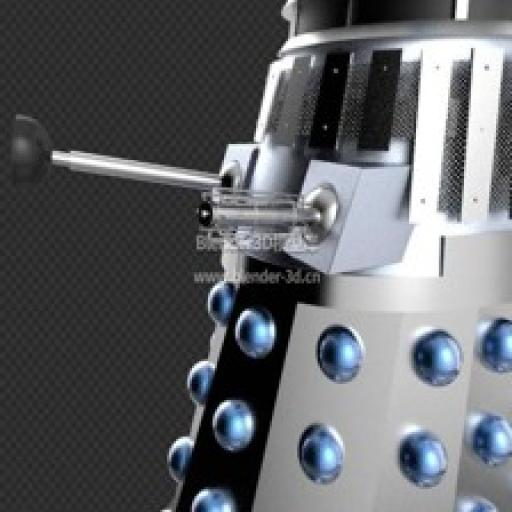dalek: (3, 0, 512, 512)
